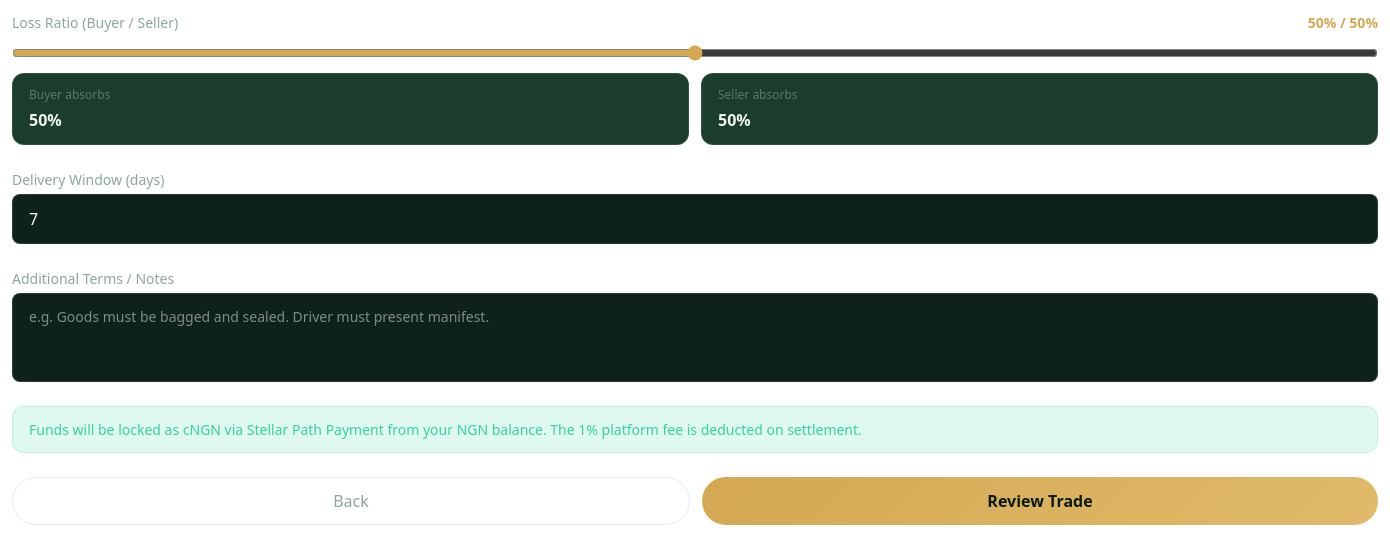
Test: Step2Negotiation › loss ratio slider › should update buyer ratio when slider changes
Set the slider to "70": (965, 53) [12, 45, 1378, 61]
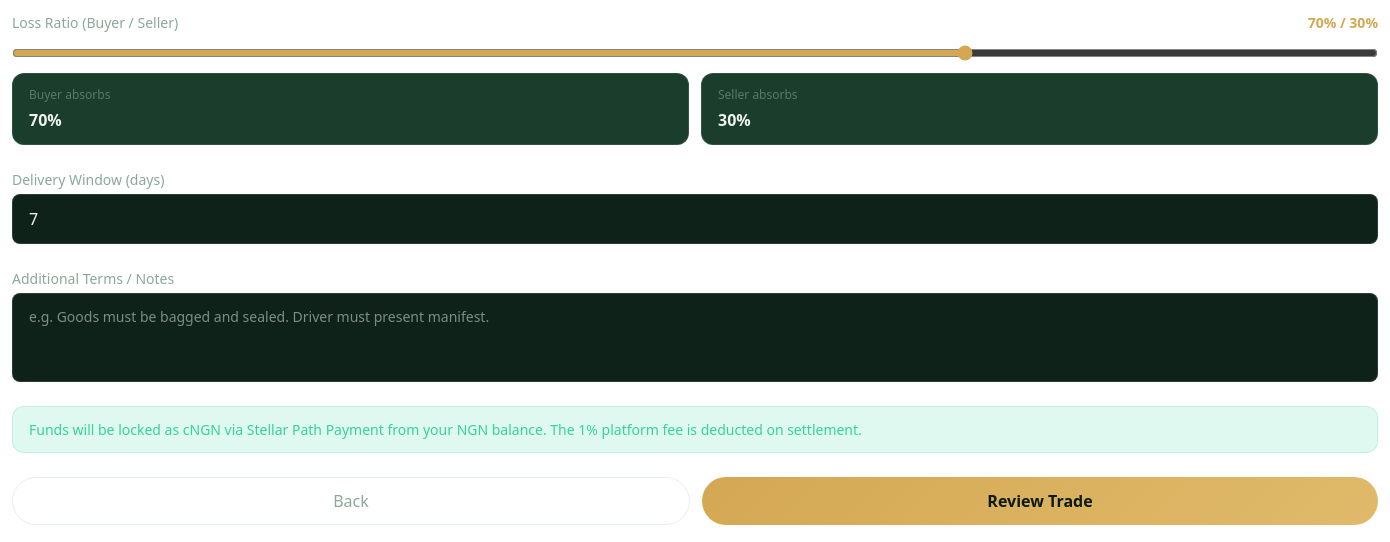
Expected: the text "70% / 30%" is shown, [1308, 12, 1378, 33]
